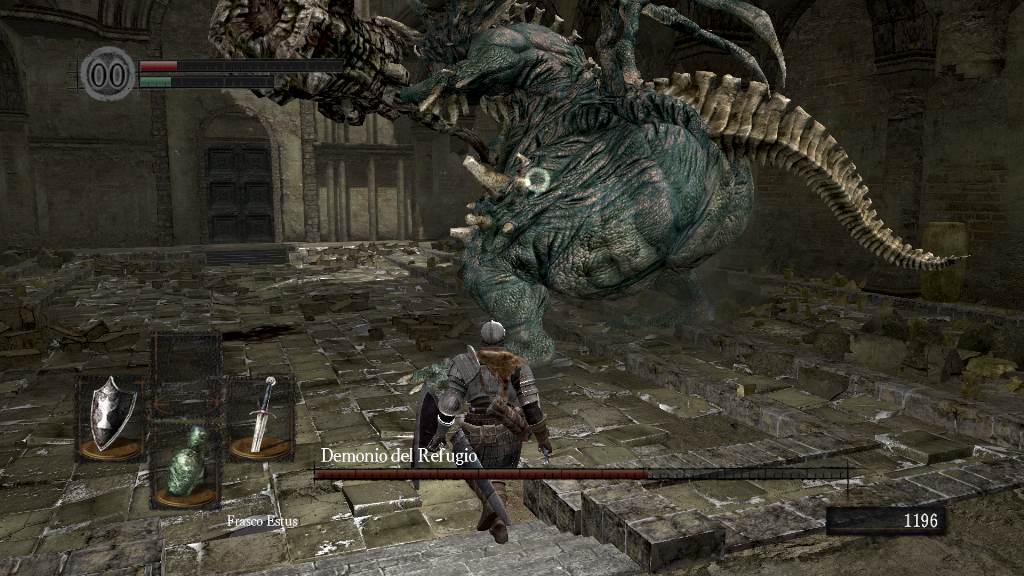asylumDemon: (208, 2, 975, 380)
bossHP: (314, 469, 847, 479)
health: (138, 58, 343, 71)
humanity: (80, 45, 136, 102)
player: (411, 320, 558, 545)
souls: (825, 506, 945, 536)
stamina: (138, 74, 274, 88)
